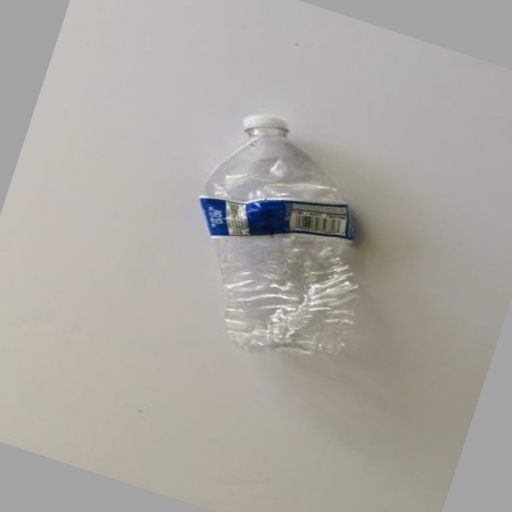Plastic_0: (199, 112, 359, 357)
